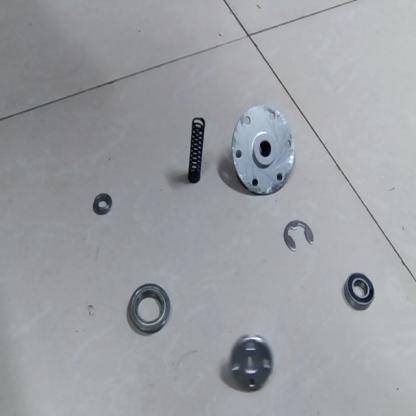FOD: (231, 106, 294, 200), (122, 282, 172, 339), (230, 332, 274, 395), (184, 115, 210, 186), (341, 271, 383, 309), (92, 190, 113, 221)
